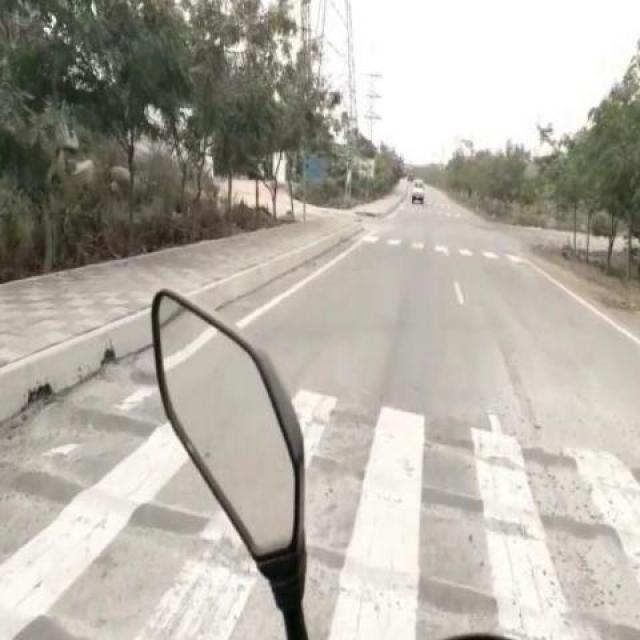Speed Bump: (309, 437, 639, 543), (308, 534, 639, 630), (326, 378, 638, 468), (2, 450, 182, 548), (0, 588, 154, 640), (39, 394, 162, 446), (102, 352, 153, 385)
